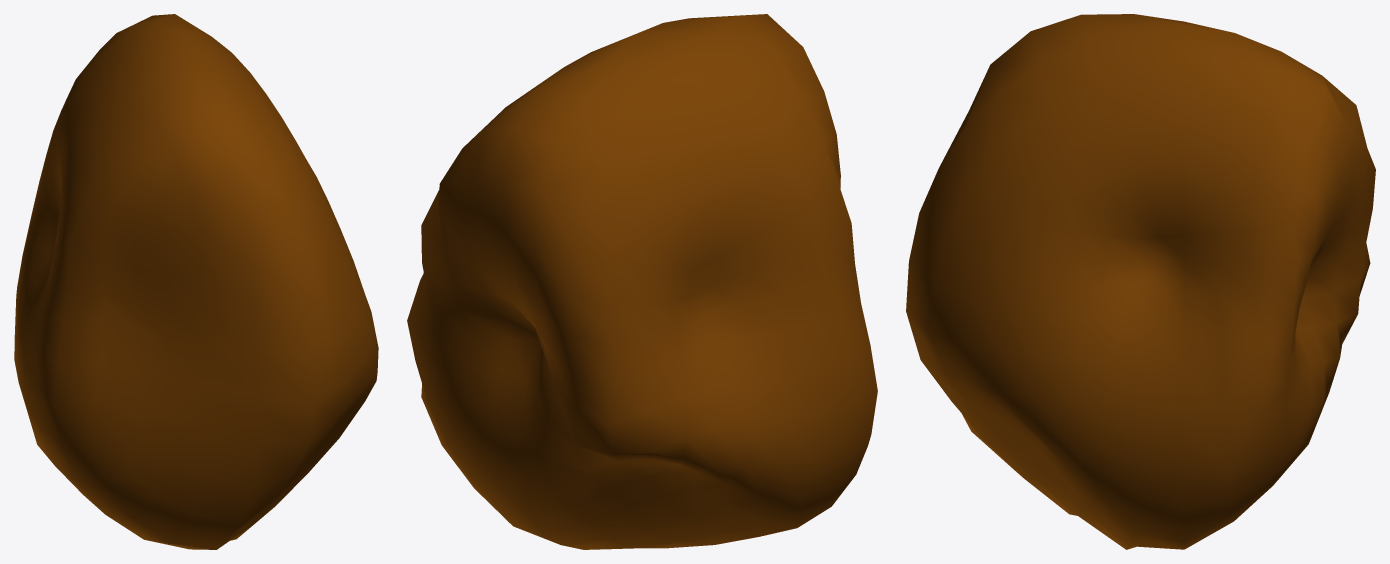
The model's file is Stone.fbx.
3 renders of one model, left to right at view 1: azimuth 30°, elevation 25°; view 2: azimuth 150°, elevation 25°; view 3: azimuth 270°, elevation 25°, orthographic. The views are drawn at different scales.
Visible parts, largest first — view 1: Cube; view 2: Cube; view 3: Cube.
Part boxes in pixels (bbox=[...]): Cube: bbox=[14, 14, 378, 549]; Cube: bbox=[407, 14, 877, 549]; Cube: bbox=[906, 14, 1375, 549].
Bounding box in the file's own units: 156 × 212 × 181.
